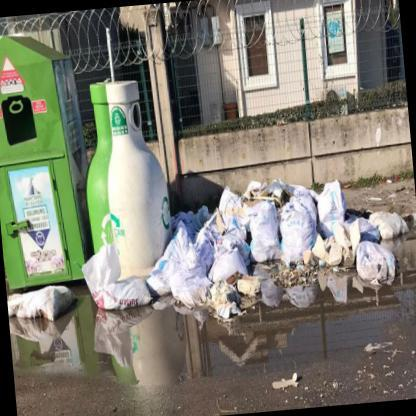Garbage: (92, 254, 152, 316), (6, 281, 74, 332), (272, 373, 305, 409), (360, 338, 388, 365)
